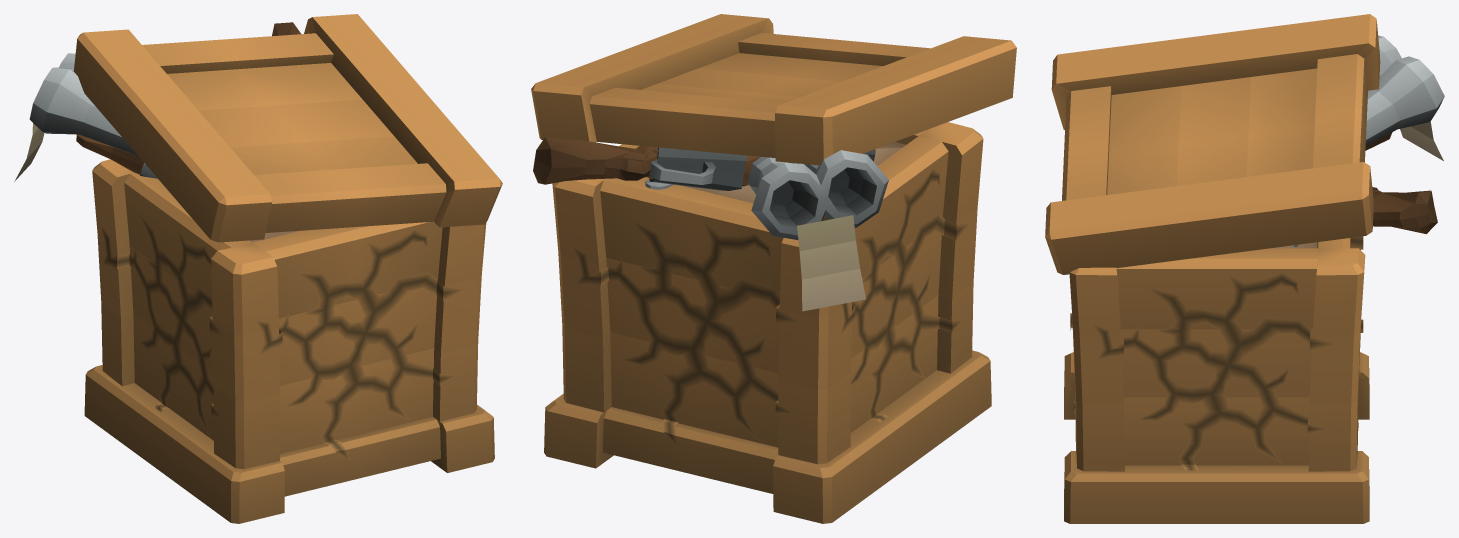
File: SM_Shotgun_Upgrade_Crate.fbx
3 renders of one model, left to right at view 1: azimuth 30°, elevation 25°; view 2: azimuth 150°, elevation 25°; view 3: azimuth 270°, elevation 25°, orthographic. The views are drawn at different scales.
Parts seen in each view (by area): view 1: SM_Shotgun_Upgrade_Crate; view 2: SM_Shotgun_Upgrade_Crate; view 3: SM_Shotgun_Upgrade_Crate.
Part boxes in pixels (left/top/right/bottom): SM_Shotgun_Upgrade_Crate: left=14, top=14, right=502, bottom=523; SM_Shotgun_Upgrade_Crate: left=531, top=14, right=1016, bottom=523; SM_Shotgun_Upgrade_Crate: left=1045, top=14, right=1444, bottom=523.
Bounding box in the file's own units: 115 × 121 × 128.
